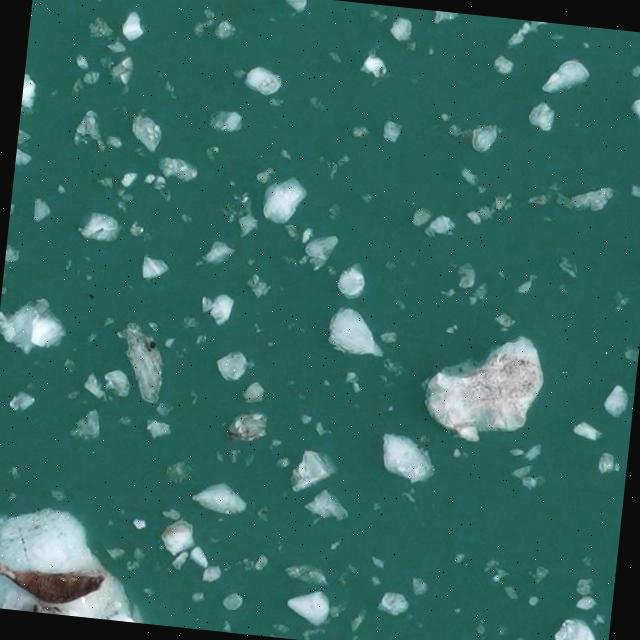seal: (0, 564, 105, 610)
